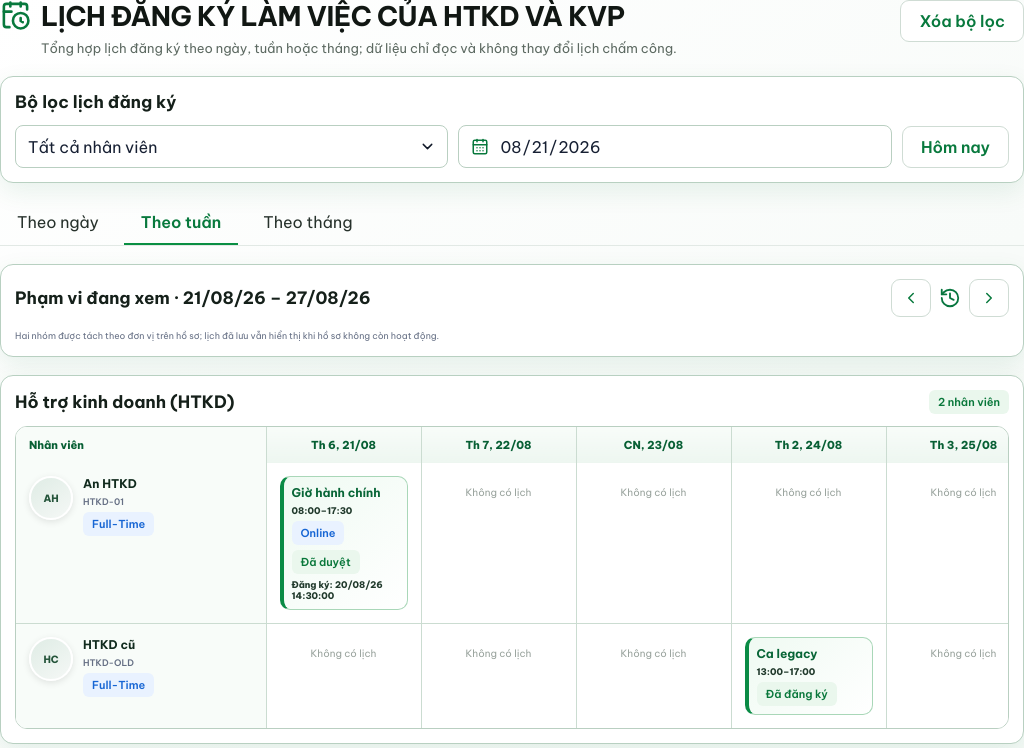
Test: Admin work registration schedule › switches between day and month ranges using date-only calendar arithmetic
Click the tab "Theo ngày". click: [58, 223]
box: left=0, top=201, right=116, bottom=245
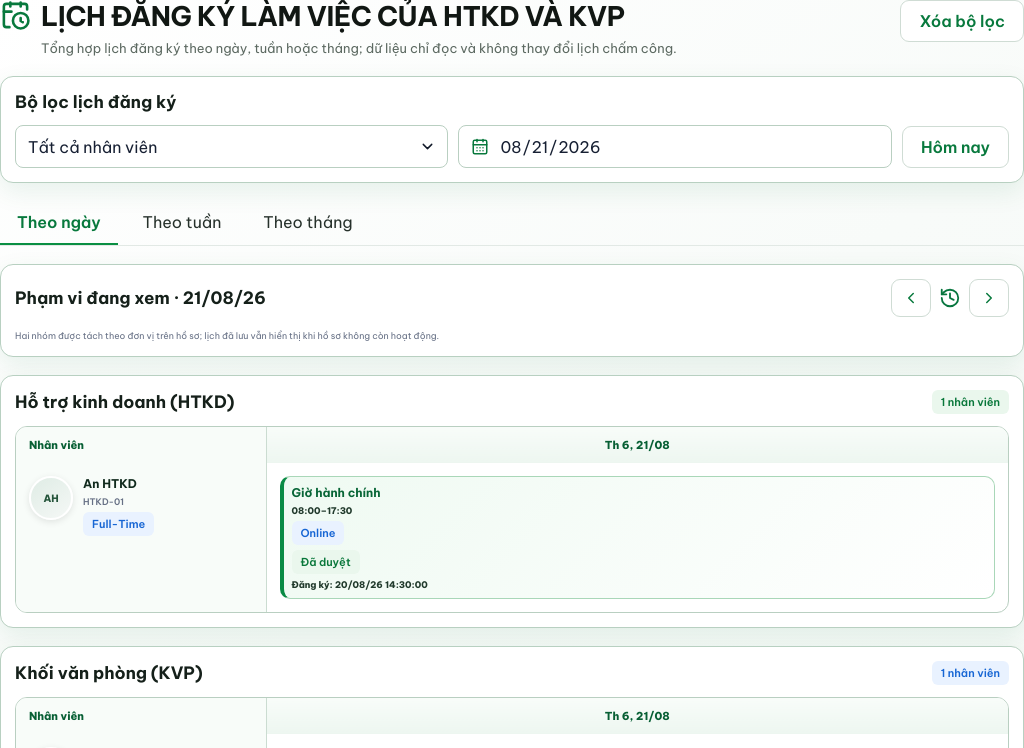
Type "2026-02-14" into the date field named "Ngày tham chiếu lịch đăng ký". click: [689, 146]
box: left=498, top=126, right=879, bottom=167
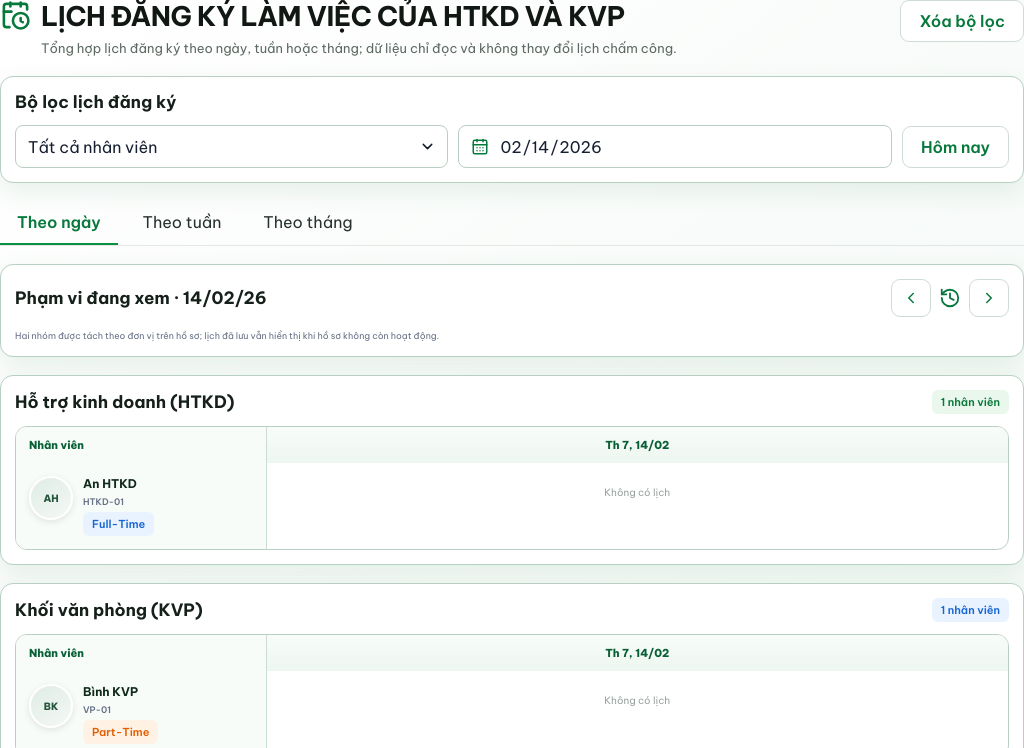
Click the tab "Theo tháng". click: [308, 223]
box: left=246, top=201, right=370, bottom=245
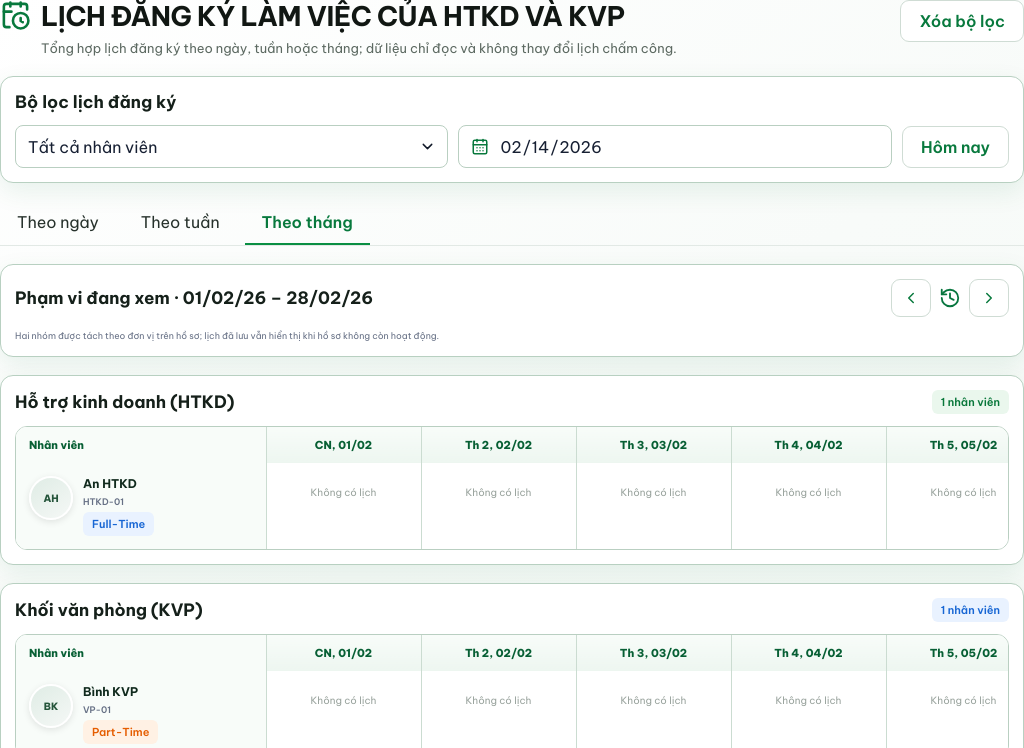
Click the button named "Xem thời gian tiếp theo". click: [989, 298]
box: left=969, top=279, right=1009, bottom=317
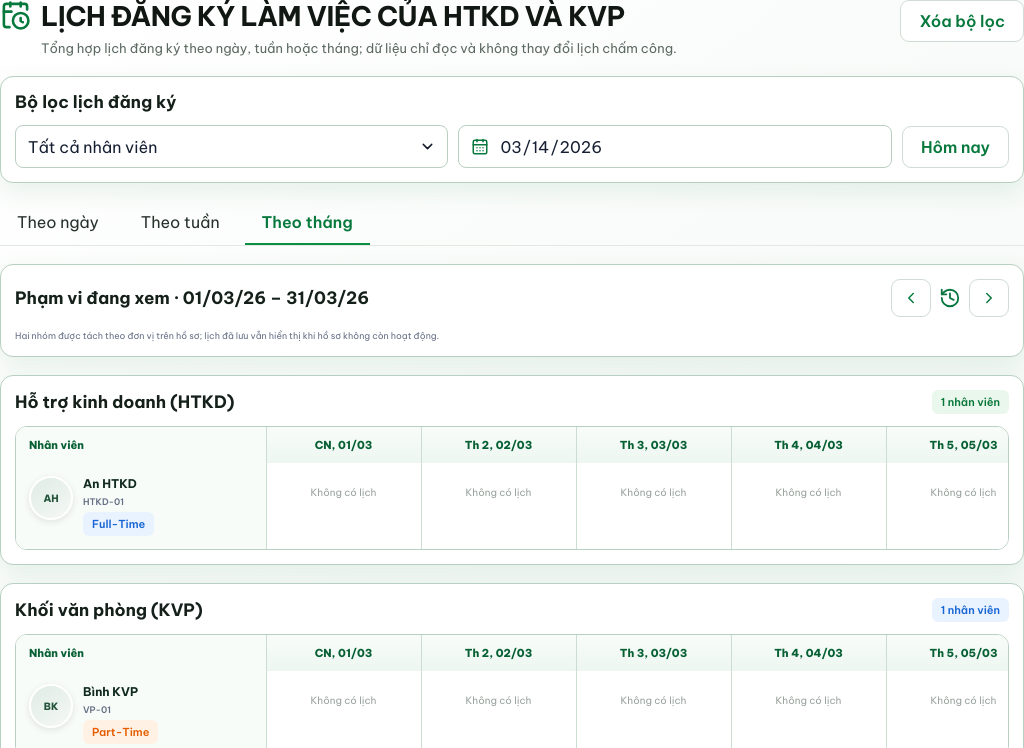
Now the date field named "Ngày tham chiếu lịch đăng ký" holds "2026-03-14", box left=498, top=126, right=879, bottom=167
